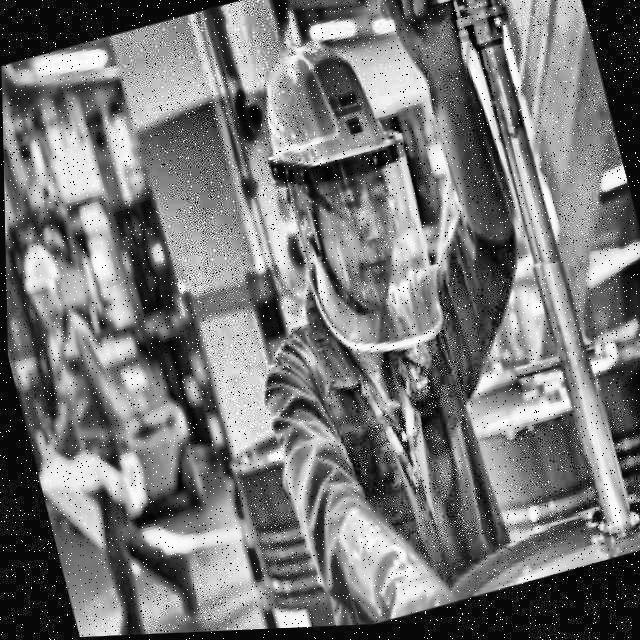Helmet: (233, 12, 462, 392)
